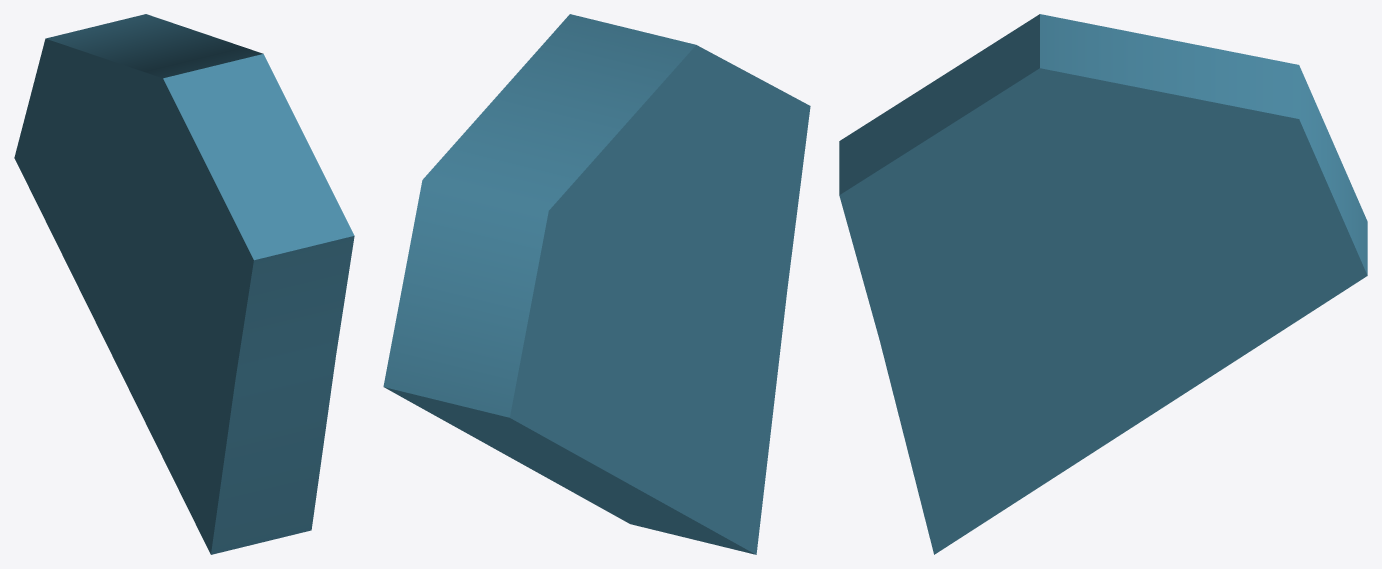
Rendered from NexusC_Trigger_23.fbx.
3 renders of one model, left to right at view 1: azimuth 30°, elevation 25°; view 2: azimuth 150°, elevation 25°; view 3: azimuth 270°, elevation 25°, orthographic. The views are drawn at different scales.
Parts seen in each view (by area): view 1: polySurface54; view 2: polySurface54; view 3: polySurface54.
Part boxes in pixels (x1,y1,x2,y2): polySurface54: (14,14,354,554); polySurface54: (383,14,810,554); polySurface54: (839,14,1367,554).
Size of the model in its own units: 9.22 by 38.62 by 37.99.
